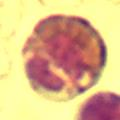eosi: (18, 12, 108, 97)
